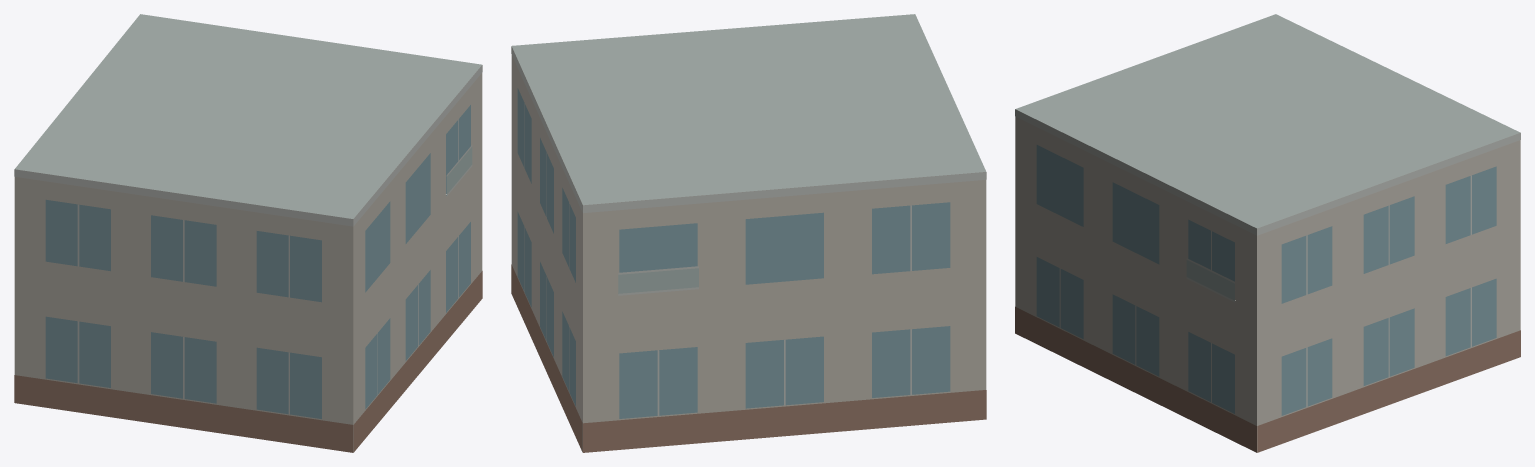
Rendered from survey-upis-32638717.glb.
3 renders of one model, left to right at view 1: azimuth 30°, elevation 25°; view 2: azimuth 150°, elevation 25°; view 3: azimuth 270°, elevation 25°, orthographic. The views are drawn at different scales.
Visible parts, largest first — view 1: survey-upis-32638717.tmp; view 2: survey-upis-32638717.tmp; view 3: survey-upis-32638717.tmp.
Boxes of the visible parts, bbox=[...] form: survey-upis-32638717.tmp: bbox=[14, 14, 482, 452]; survey-upis-32638717.tmp: bbox=[511, 14, 986, 452]; survey-upis-32638717.tmp: bbox=[1015, 14, 1520, 452].
Size of the model in its own units: 15.6 by 7.6 by 15.53.
